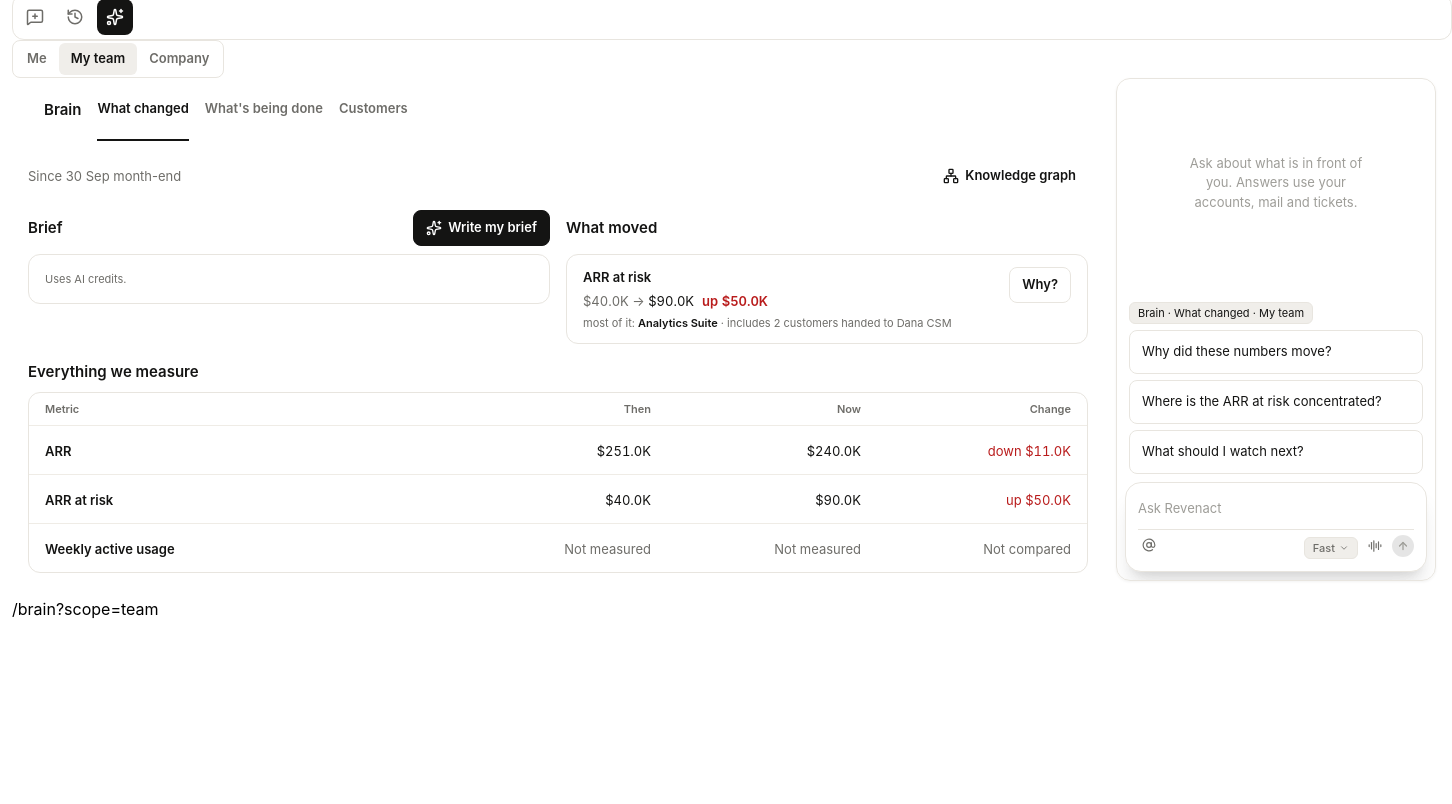
Test: Ask on the Brain: the chip and the states › blocks a resend in the same stale scope after a refusal, and allows it once the scope changes
The width and height of the screenshot is (1452, 804).
Expected: the text "Brain · What changed · My team" is shown, 1129,302 -> 1313,324
Type "Why?" into the field with placeholder "Ask Revenact" at coordinates (1276, 509), box 1138,497 -> 1414,520
Then press Enter
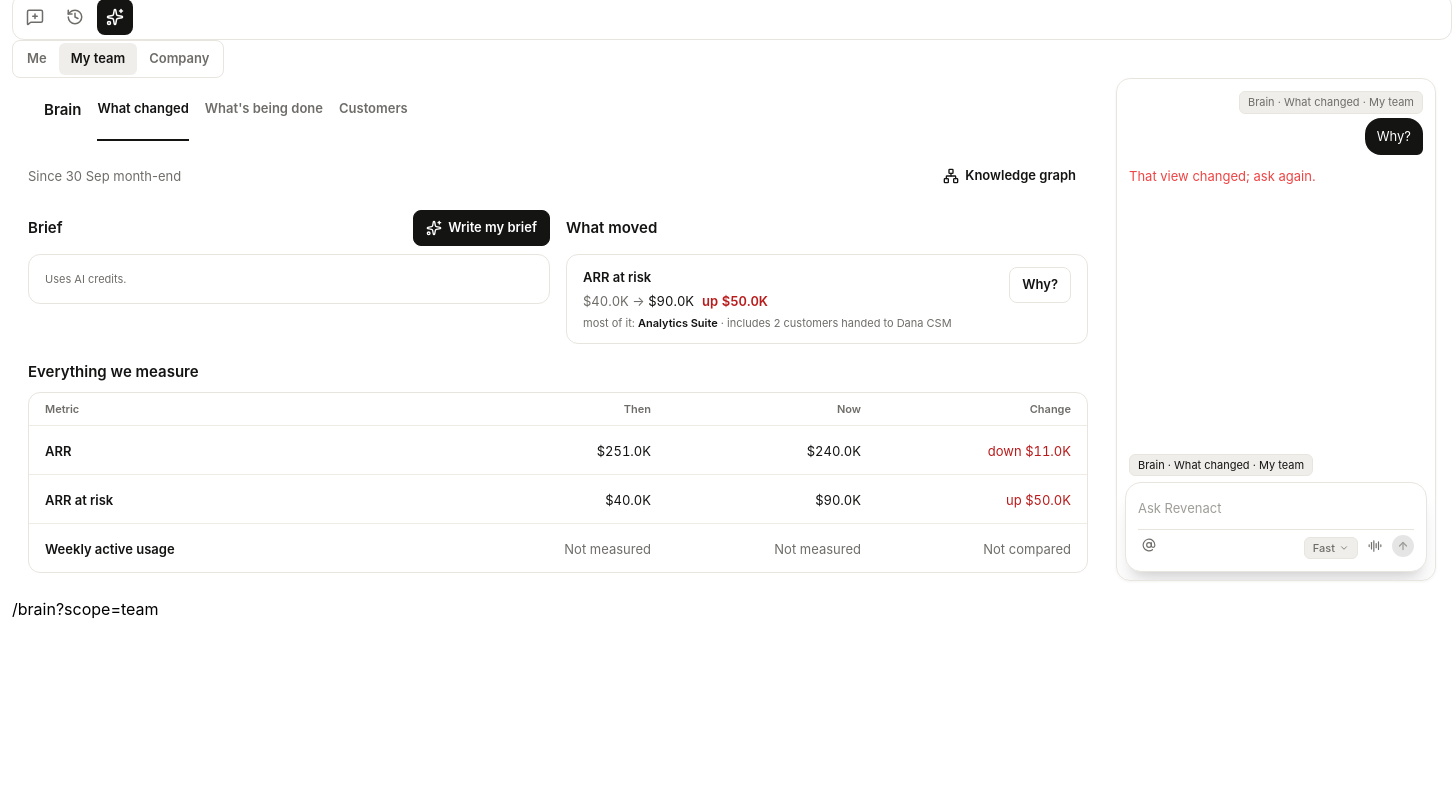
Now the text "That view changed; ask again." is shown, box 1129,167 -> 1316,186
Same scope: the composer does not go out again.
Type "Again?" into the field with placeholder "Ask Revenact" at coordinates (1276, 509), box 1138,497 -> 1414,520
Then press Enter
Now the text "That view changed; ask again." is shown, box 1129,167 -> 1316,186
The scope moves on: the refusal clears, and the next question sends.
Click the button "Company" at coordinates (179, 59), box 137,43 -> 222,75
(page scrolled)
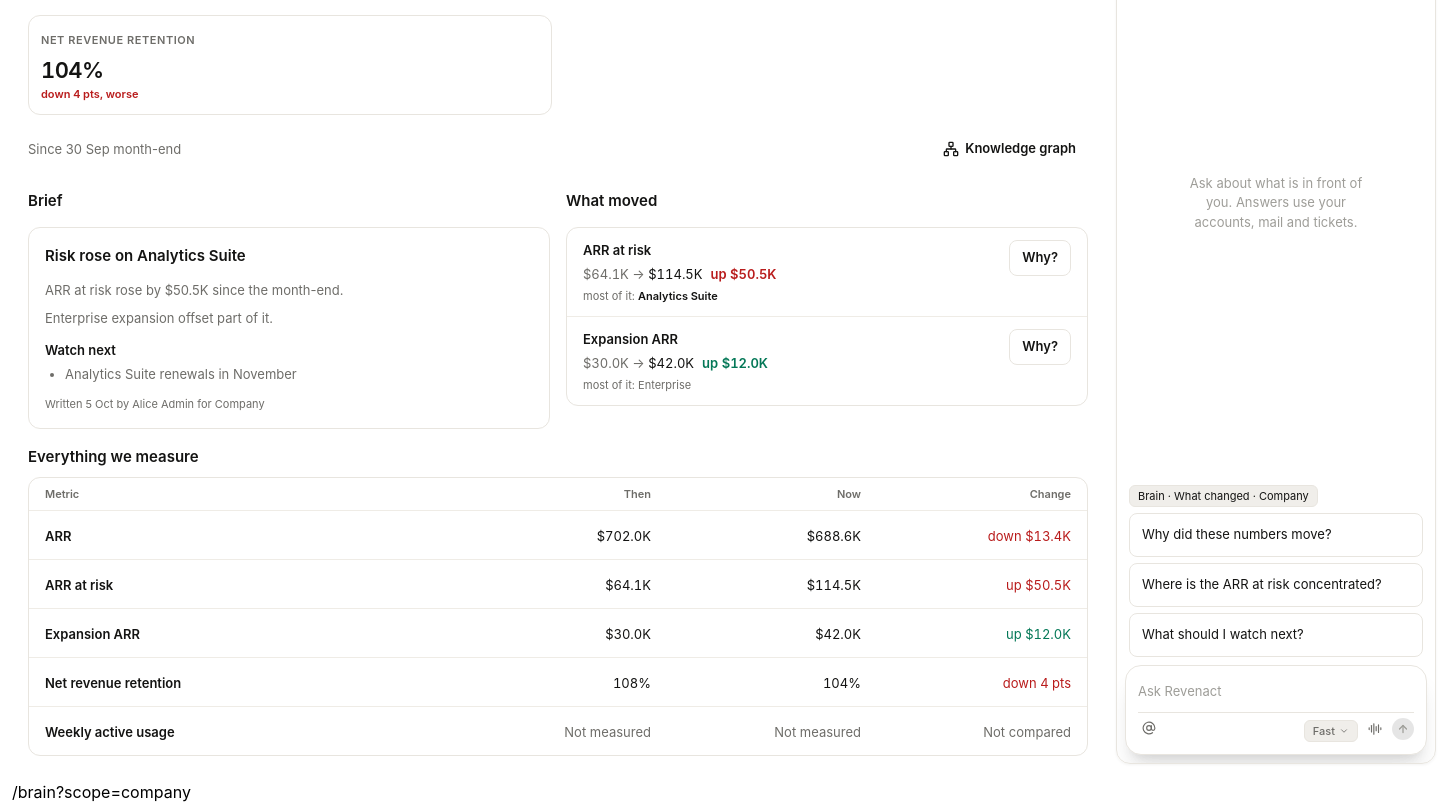
Now the text with test id "where" reads "/brain?scope=company", box 12,782 -> 191,802
Now the text "That view changed; ask again." is gone
Type "Now?" into the field with placeholder "Ask Revenact" at coordinates (1276, 692), box 1138,680 -> 1414,704
Then press Enter
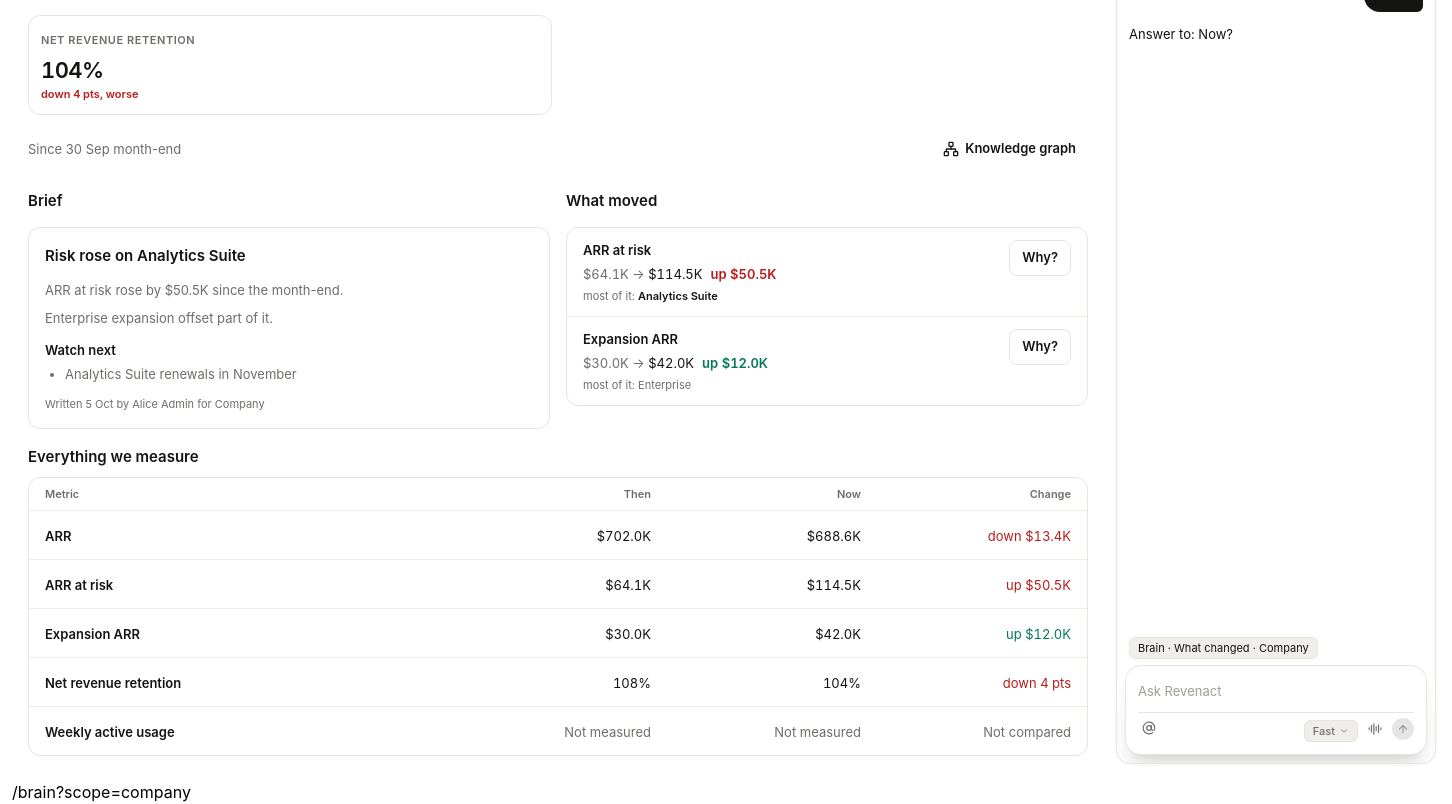
Now the text "Answer to: Now?" is shown, box 1129,24 -> 1233,45
